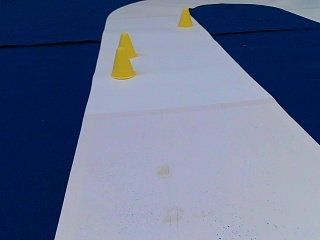cone: (110, 44, 136, 79), (117, 33, 136, 58), (178, 8, 192, 27)
